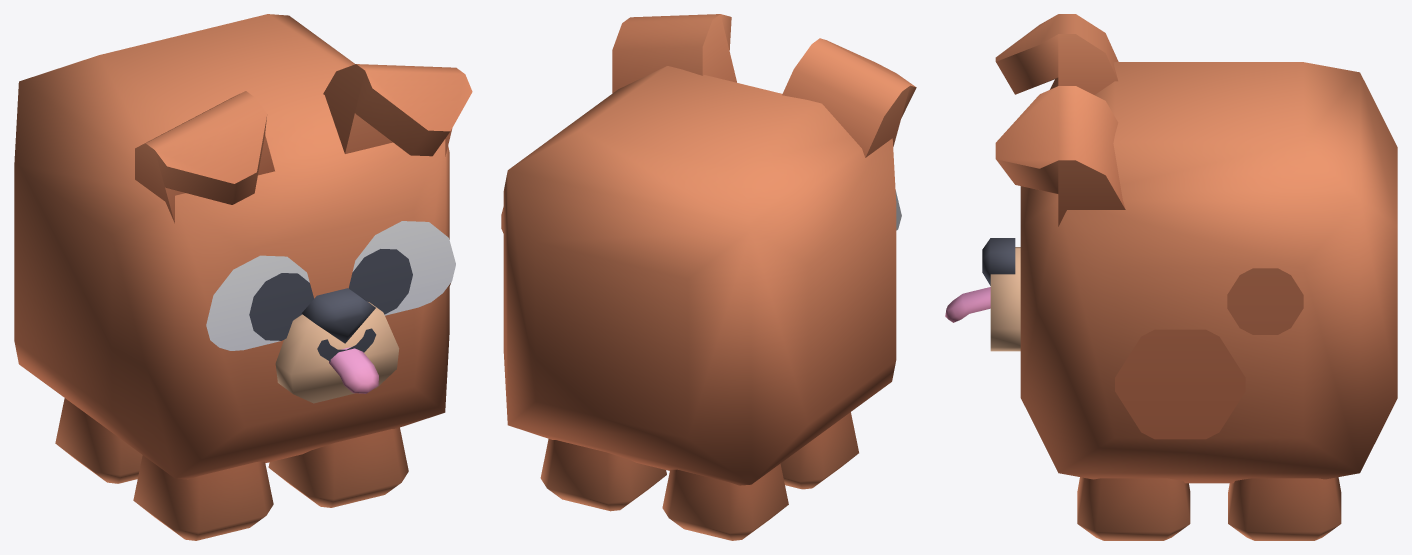
Rendered from cc0-corgi-lod0.glb.
The picture shows the model from 3 angles, left to right: view 1: azimuth 30°, elevation 25°; view 2: azimuth 150°, elevation 25°; view 3: azimuth 270°, elevation 25°; orthographic projection. The views are drawn at different scales.
Parts seen in each view (by area): view 1: part_1, part_5, part_4, part_3; view 2: part_1, part_3, part_2, part_5; view 3: part_1, part_2, part_4.
Part boxes in pixels (x1,y1,x2,y2): part_1: [14, 14, 472, 479]; part_5: [133, 455, 273, 540]; part_4: [268, 427, 408, 507]; part_3: [55, 398, 142, 483]; part_1: [501, 14, 916, 485]; part_3: [662, 463, 788, 540]; part_2: [540, 439, 666, 511]; part_5: [780, 412, 858, 489]; part_1: [945, 14, 1397, 483]; part_2: [1228, 477, 1341, 540]; part_4: [1077, 477, 1190, 540].
Bounding box in the file's own units: 1.26 × 1.58 × 1.5.
1 material, 1 textured.
